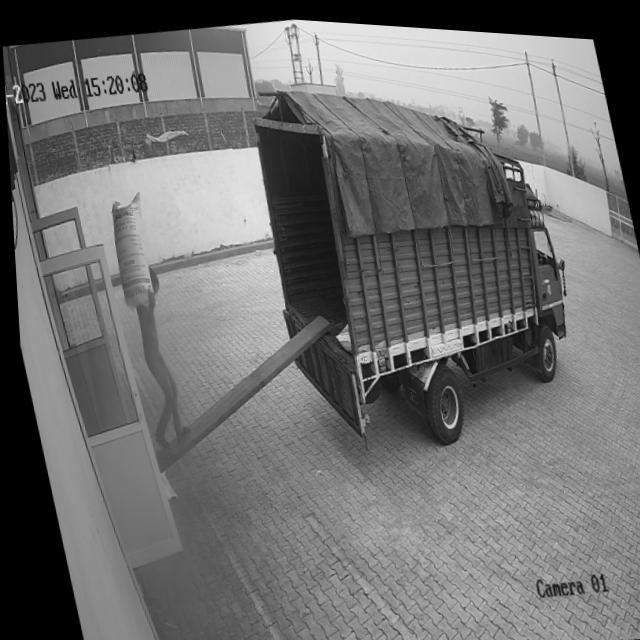sack: (98, 186, 161, 310)
